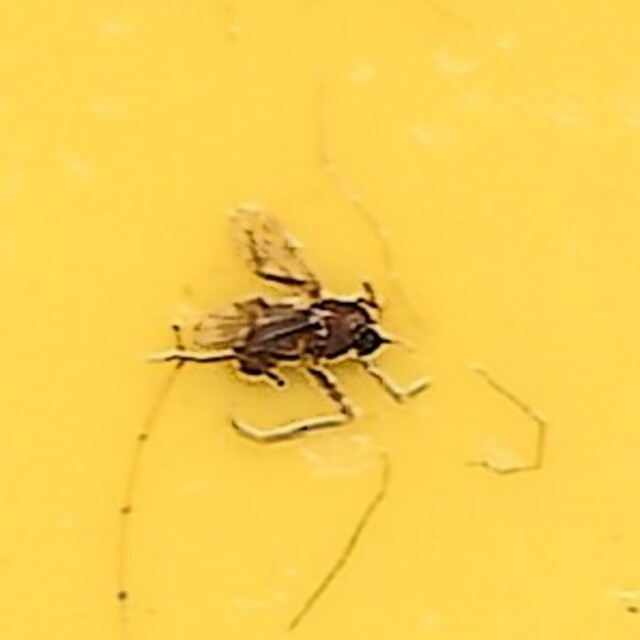Nematocera: (215, 196, 425, 444)
